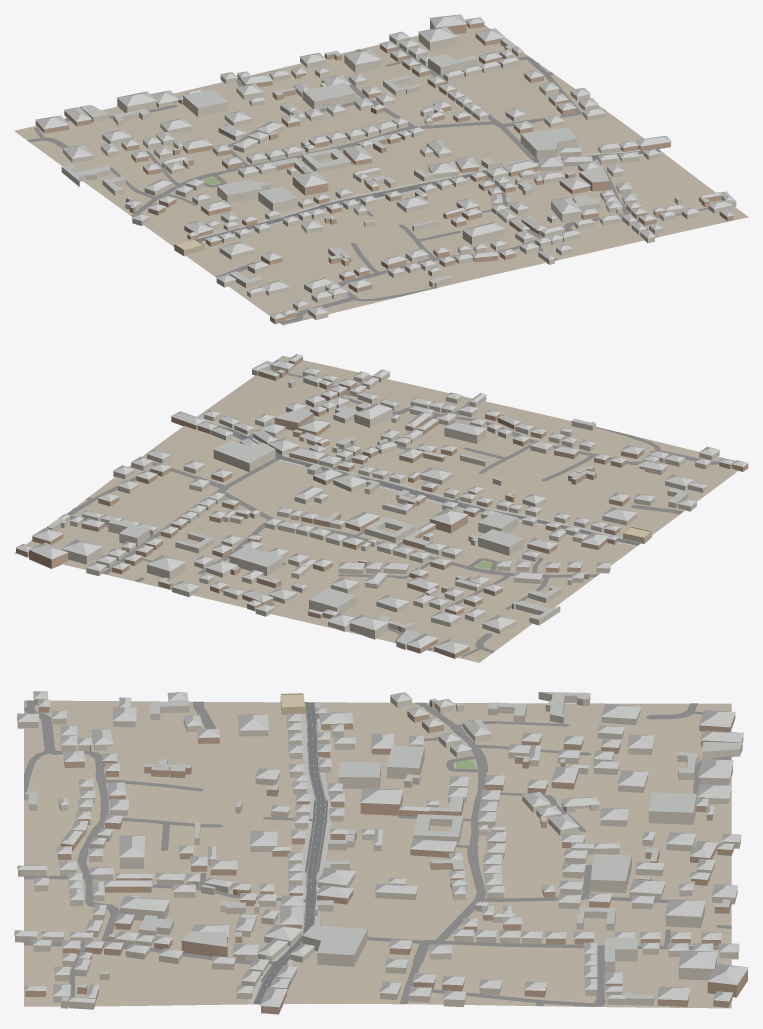
Rendered from bolak_1_-1.glb.
The picture shows the model from 3 angles, top to bottom: view 1: azimuth 30°, elevation 25°; view 2: azimuth 150°, elevation 25°; view 3: azimuth 270°, elevation 25°; orthographic projection. The views are drawn at different scales.
Parts seen in each view (by area): view 1: Yer_Tuproq-col, Tom_Shifer, Devor_Suvoq-col, Devor_Gisht-col, Yol_Mahalla-col, Trotuar, Yol_Asfalt-col; view 2: Yer_Tuproq-col, Tom_Shifer, Devor_Suvoq-col, Devor_Gisht-col, Yol_Mahalla-col, Trotuar, Yol_Asfalt-col; view 3: Yer_Tuproq-col, Tom_Shifer, Devor_Suvoq-col, Yol_Mahalla-col, Devor_Gisht-col, Yol_Asfalt-col, Trotuar.
Part boxes in pixels (bbox=[...]): Yer_Tuproq-col: bbox=[14, 25, 748, 325]; Tom_Shifer: bbox=[35, 14, 735, 319]; Devor_Suvoq-col: bbox=[61, 33, 736, 319]; Devor_Gisht-col: bbox=[35, 20, 733, 324]; Yol_Mahalla-col: bbox=[27, 42, 708, 324]; Trotuar: bbox=[170, 149, 662, 245]; Yol_Asfalt-col: bbox=[173, 148, 660, 246]; Yer_Tuproq-col: bbox=[14, 355, 738, 662]; Tom_Shifer: bbox=[15, 354, 748, 653]; Devor_Suvoq-col: bbox=[46, 363, 719, 649]; Devor_Gisht-col: bbox=[16, 357, 748, 658]; Yol_Mahalla-col: bbox=[66, 370, 735, 656]; Trotuar: bbox=[196, 416, 640, 547]; Yol_Asfalt-col: bbox=[206, 421, 640, 545]; Yer_Tuproq-col: bbox=[24, 700, 731, 1008]; Tom_Shifer: bbox=[14, 691, 748, 1007]; Devor_Suvoq-col: bbox=[15, 692, 742, 1009]; Yol_Mahalla-col: bbox=[24, 700, 731, 1006]; Devor_Gisht-col: bbox=[25, 699, 747, 1014]; Yol_Asfalt-col: bbox=[253, 702, 327, 1004]; Trotuar: bbox=[248, 702, 332, 1003].
Size of what is drawn, in the model's own units: 420 by 15.42 by 415.
